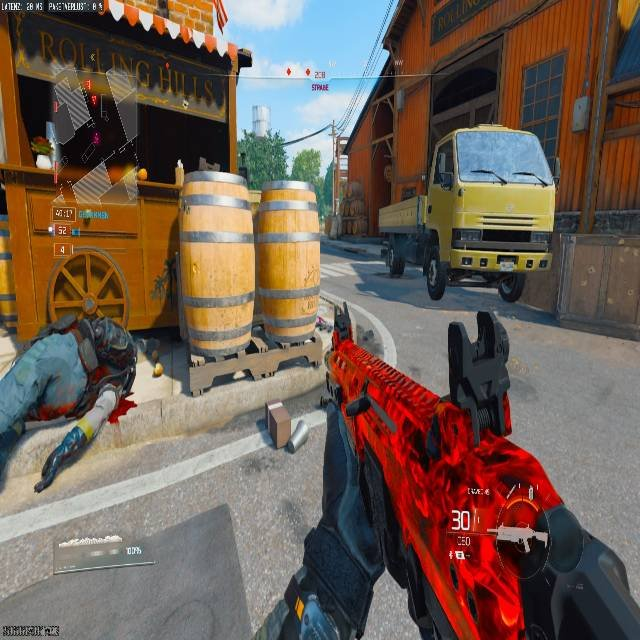head: (50, 248, 127, 321)
player: (1, 247, 139, 495)
